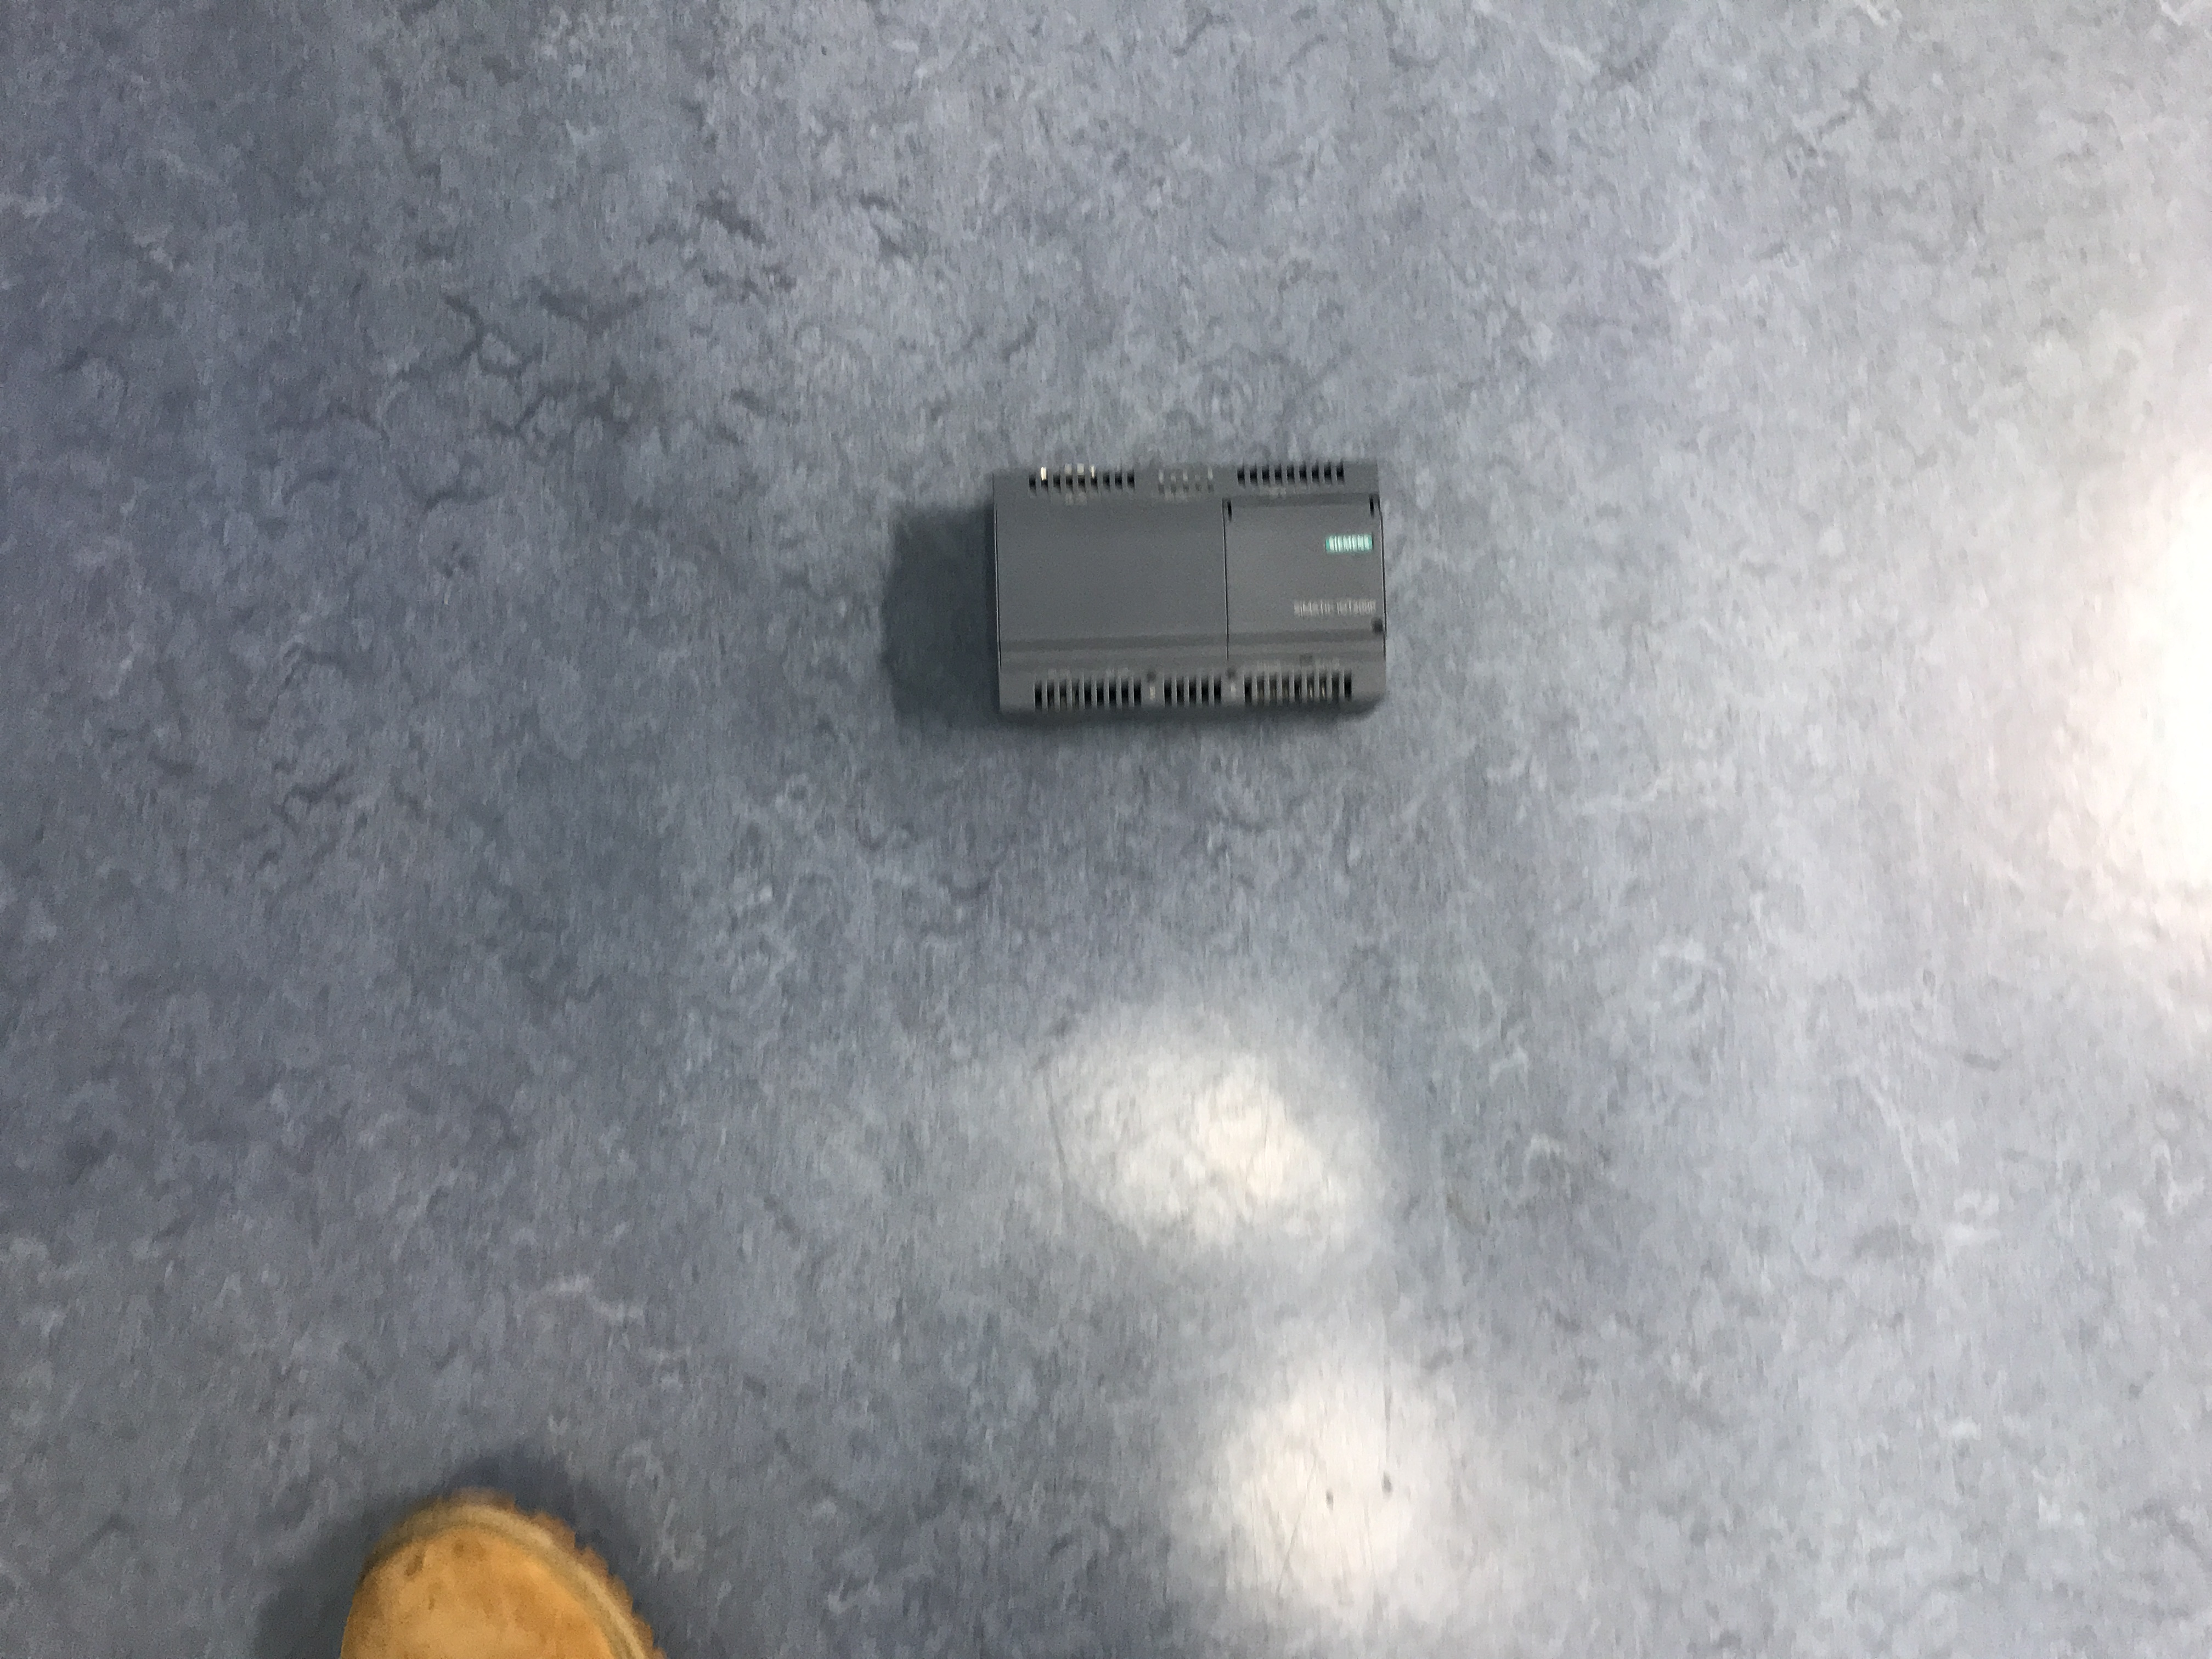device: (991, 458, 1390, 728)
